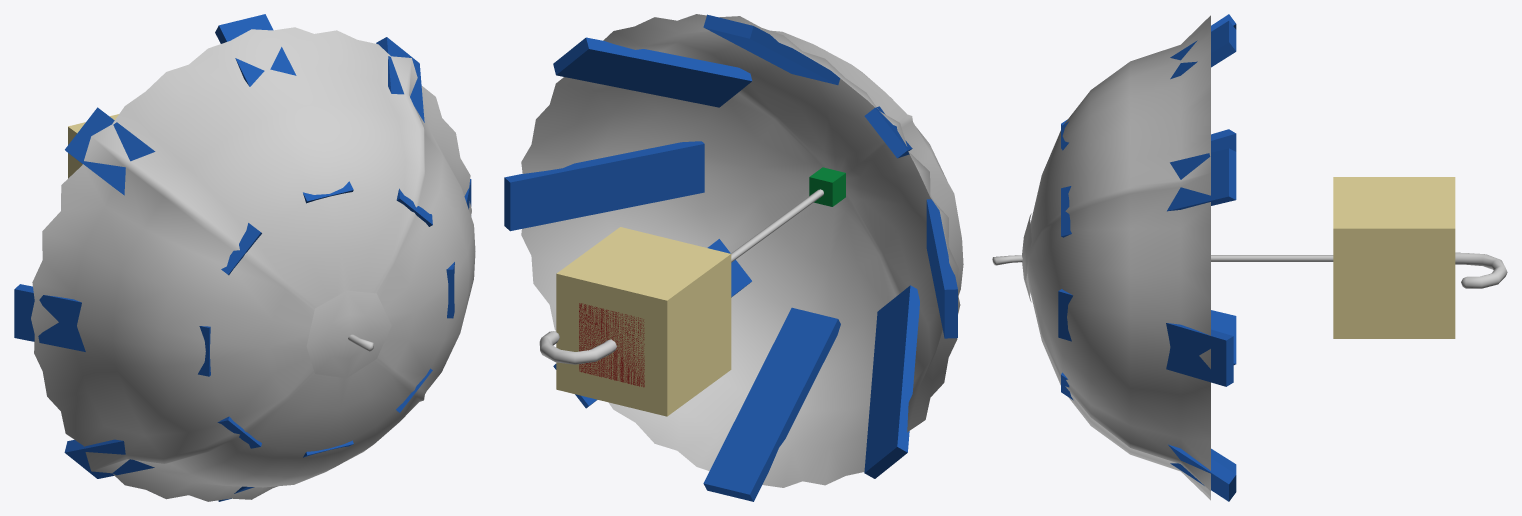
3 views of the same model, side by side, from view 1: azimuth 30°, elevation 25°; view 2: azimuth 150°, elevation 25°; view 3: azimuth 270°, elevation 25° (orthographic). The views are drawn at different scales.
Parts seen in each view (by area): view 1: object0004_W0203, object0093_Box, object0079_Box, object0065_Box, object0107_Box, object0051_Box, object0036_Box; view 2: object0004_W0203, object0159_Box, object0036_Box, object0121_Box, object0051_Box, object0107_Box, object0162_Box, object0065_Box, object0093_Box, object0021_Box, object0079_Box, object0135_Box; view 3: object0004_W0203, object0159_Box, object0036_Box, object0051_Box, object0135_Box, object0065_Box, object0107_Box.
Boxes of the visible parts, box(x1,y1,x2,y2) form: object0004_W0203: box(31, 27, 475, 501); object0093_Box: box(14, 284, 210, 376); object0079_Box: box(65, 107, 261, 275); object0065_Box: box(215, 14, 353, 203); object0107_Box: box(64, 416, 261, 478); object0051_Box: box(376, 37, 432, 226); object0036_Box: box(446, 179, 471, 318); object0004_W0203: box(521, 14, 963, 487); object0159_Box: box(556, 227, 731, 416); object0036_Box: box(504, 141, 704, 231); object0121_Box: box(703, 307, 840, 501); object0051_Box: box(553, 37, 752, 107); object0107_Box: box(864, 285, 919, 478); object0162_Box: box(579, 303, 644, 387); object0065_Box: box(703, 14, 840, 85); object0093_Box: box(926, 199, 957, 338); object0021_Box: box(809, 167, 845, 206); object0079_Box: box(864, 106, 912, 158); object0135_Box: box(553, 239, 751, 408); object0004_W0203: box(992, 15, 1507, 500); object0159_Box: box(1333, 177, 1455, 338); object0036_Box: box(1058, 289, 1233, 386); object0051_Box: box(1061, 148, 1236, 237); object0135_Box: box(1061, 372, 1236, 501); object0065_Box: box(1061, 21, 1236, 150); object0107_Box: box(1211, 310, 1236, 364).
Size of the model in its own units: 1.95 by 1.95 by 2.01.
